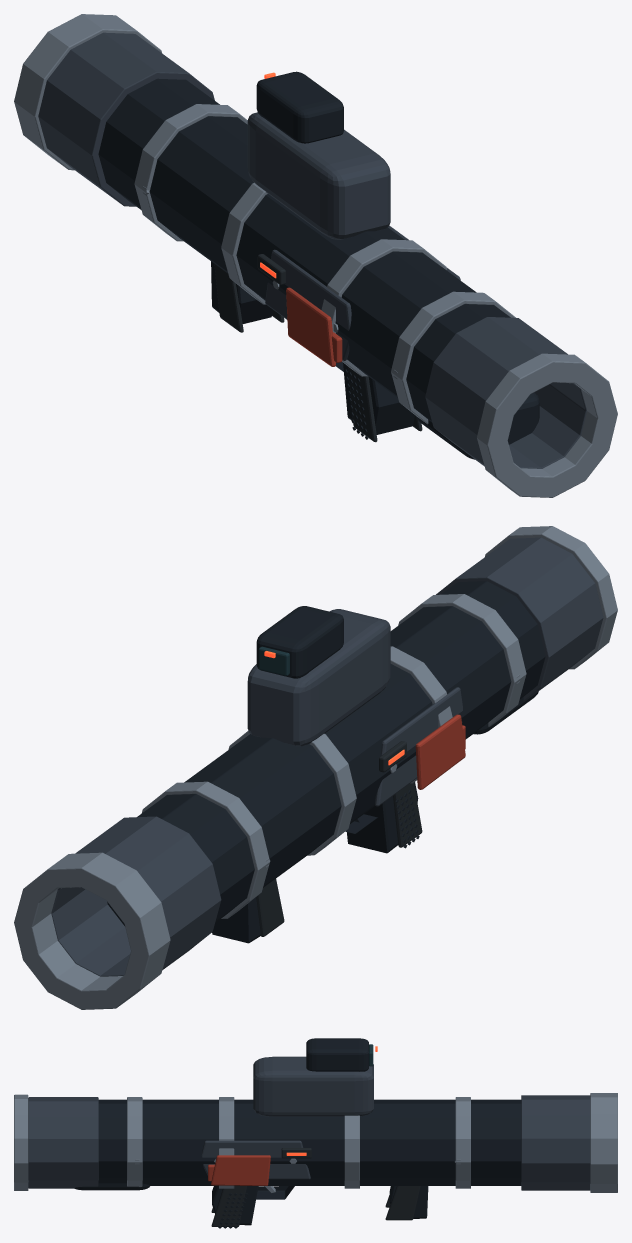
The model's file is bazooka.glb.
3 renders of one model, top to bottom at view 1: azimuth 30°, elevation 25°; view 2: azimuth 150°, elevation 25°; view 3: azimuth 270°, elevation 25°, orthographic. The views are drawn at different scales.
Visible parts, largest first — view 1: bazooka; view 2: bazooka; view 3: bazooka.
Part boxes in pixels (left/top/right/bottom): bazooka: left=14, top=14, right=617, bottom=497; bazooka: left=14, top=526, right=617, bottom=1009; bazooka: left=14, top=1038, right=617, bottom=1228.
Size of the model in its own units: 0.2538 by 0.492 by 1.52.
